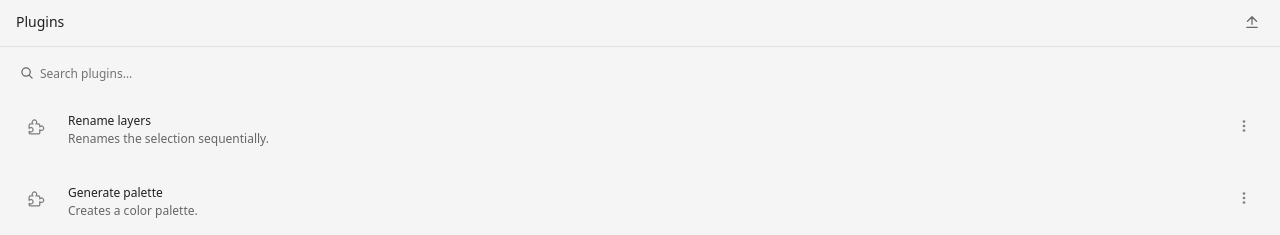
it: <PluginsPanel /> › filters plugins by name and description on the client
Type "color" into the field labelled "Search plugins" at point(640, 73), box top-left (12, 59), bottom-right (1268, 87)
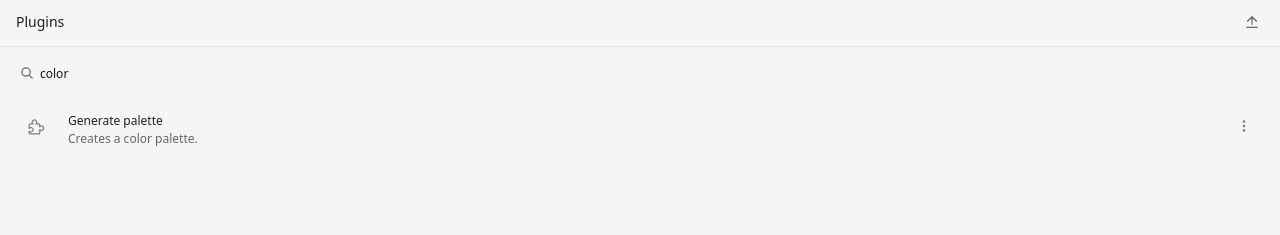
Expected: the text "Generate palette" is shown, top-left (68, 112), bottom-right (163, 129)
Expected: the text "Rename layers" is gone
